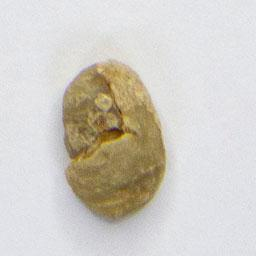defect: (57, 54, 170, 225)
